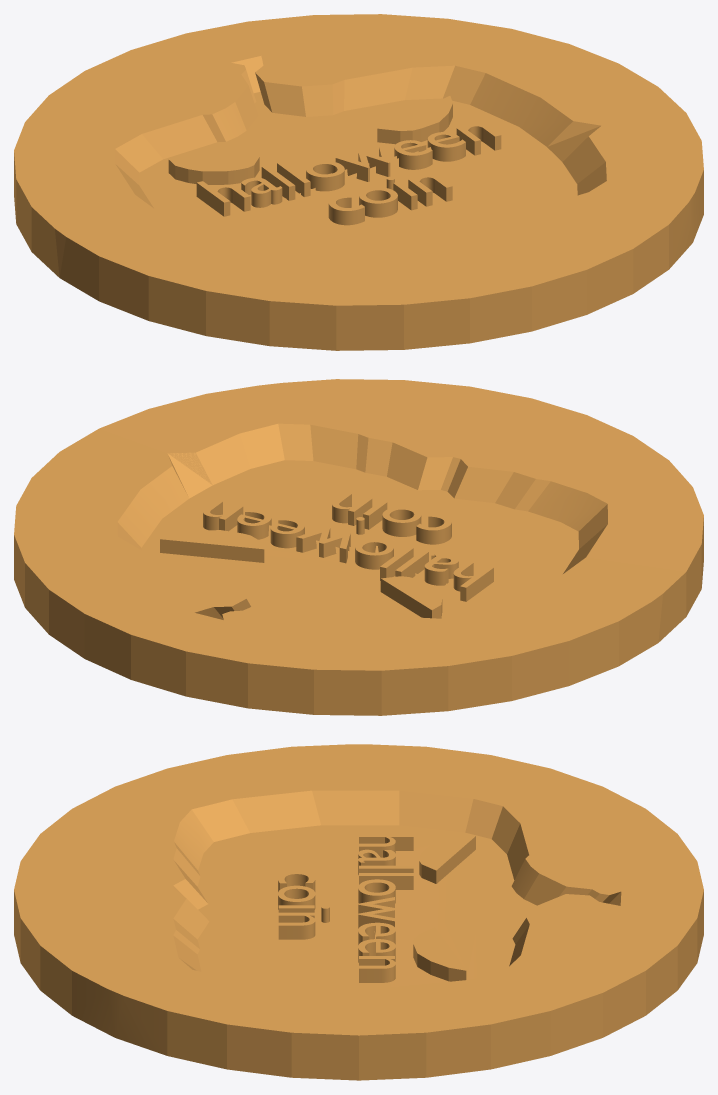
The model's file is monetkahalloween.fbx.
3 renders of one model, top to bottom at view 1: azimuth 30°, elevation 25°; view 2: azimuth 150°, elevation 25°; view 3: azimuth 270°, elevation 25°, orthographic.
Parts seen in each view (by area): view 1: Circle; view 2: Circle; view 3: Circle.
Boxes of the visible parts, left/top/right/bottom form: Circle: left=14, top=14, right=703, bottom=350; Circle: left=14, top=379, right=703, bottom=715; Circle: left=14, top=744, right=703, bottom=1080.
Bounding box in the file's own units: 2 × 0.1441 × 2.
